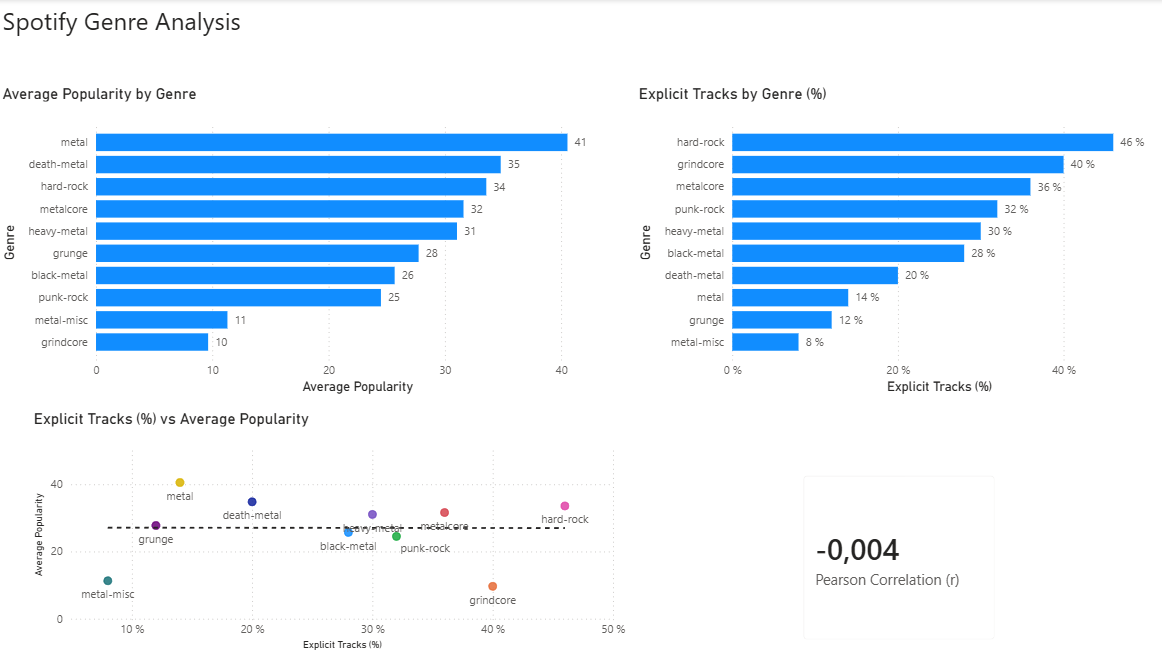

The dashboard page shown, as its layout file describes it:
{"tool":"powerbi","page":{"name":"1 puslapis","canvas":[1280,720],"ordinal":0},"visuals":[{"type":"clusteredBarChart","title":"Average Popularity by Genre","fields":{"Category":["genre_popularity.genre"],"Y":["Avg(genre_popularity.avg_popularity)"]},"box":[0,92.9,694.3,345.7],"z":0},{"type":"cardVisual","title":"Explicit Tracks by Genre (%)","fields":{"Data":["Comparison.Correlation"]},"box":[867.1,505.7,244.9,214.7],"z":1000},{"type":"scatterChart","title":"Explicit Tracks (%) vs Average Popularity","fields":{"X":["Avg(Comparison.explicit_percentage)"],"Y":["Avg(Comparison.avg_popularity)"],"Series":["Comparison.genre"]},"box":[34.3,450,660,270],"z":2000},{"type":"clusteredBarChart","title":"Explicit Tracks by Genre (%)","fields":{"Category":["explicit_genres.genre"],"Y":["Sum(explicit_genres.explicit_percentage)"]},"box":[698.6,92.9,581.4,345.7],"z":4000},{"type":"textbox","box":[0,0,694.3,55.7],"z":4001}]}

Visuals, with their boxes in screenshot pixels (x1, y1, x2, y2), scaled from the page's 1280x720 canvas onto the 1162x652 screenshot:
"Average Popularity by Genre" clusteredBarChart: detection(0, 84, 630, 397)
"Explicit Tracks by Genre (%)" cardVisual: detection(787, 458, 1009, 651)
"Explicit Tracks (%) vs Average Popularity" scatterChart: detection(31, 408, 630, 651)
"Explicit Tracks by Genre (%)" clusteredBarChart: detection(634, 84, 1161, 397)
textbox: detection(0, 0, 630, 50)
